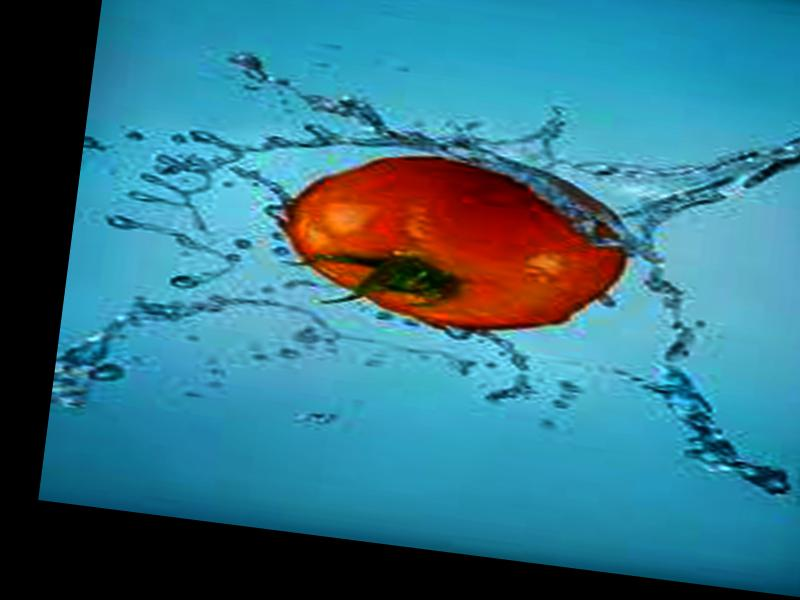Tomato: (273, 136, 635, 346)
